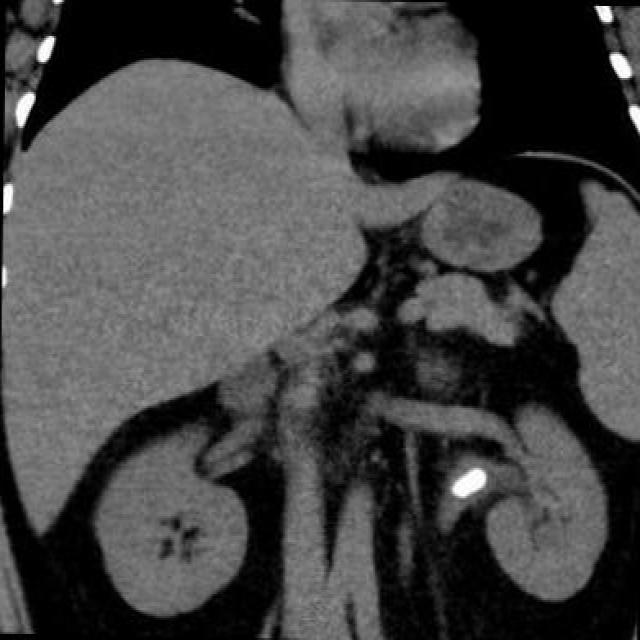Tas_Var: (443, 463, 492, 503)
